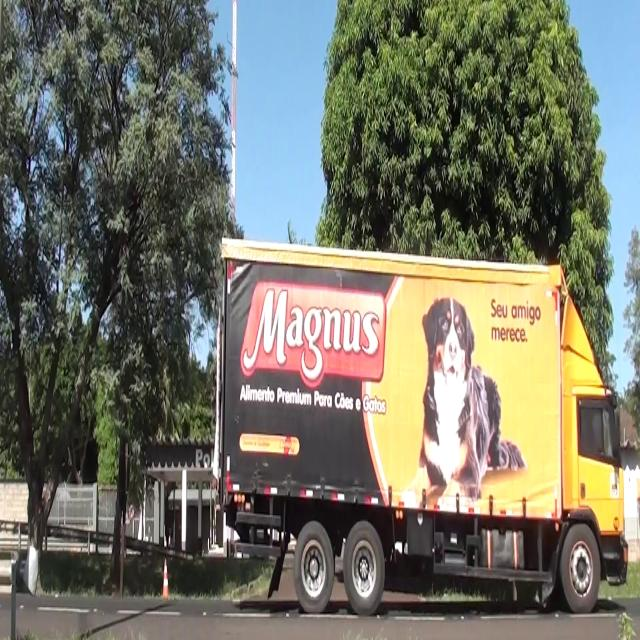-axle: (560, 521, 604, 616), (294, 518, 334, 620), (344, 521, 386, 617)
